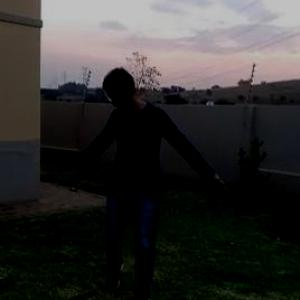land: (64, 59, 238, 299)
